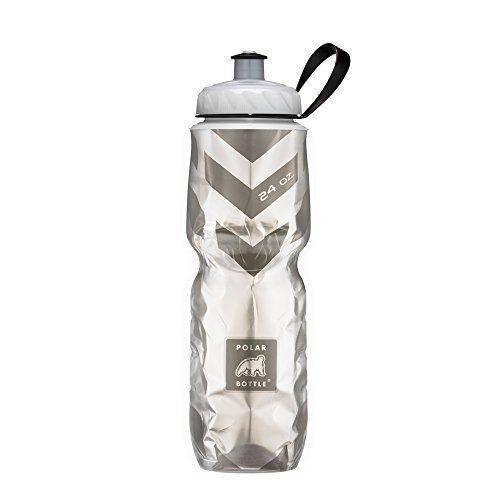gym bottle: (185, 49, 316, 475)
